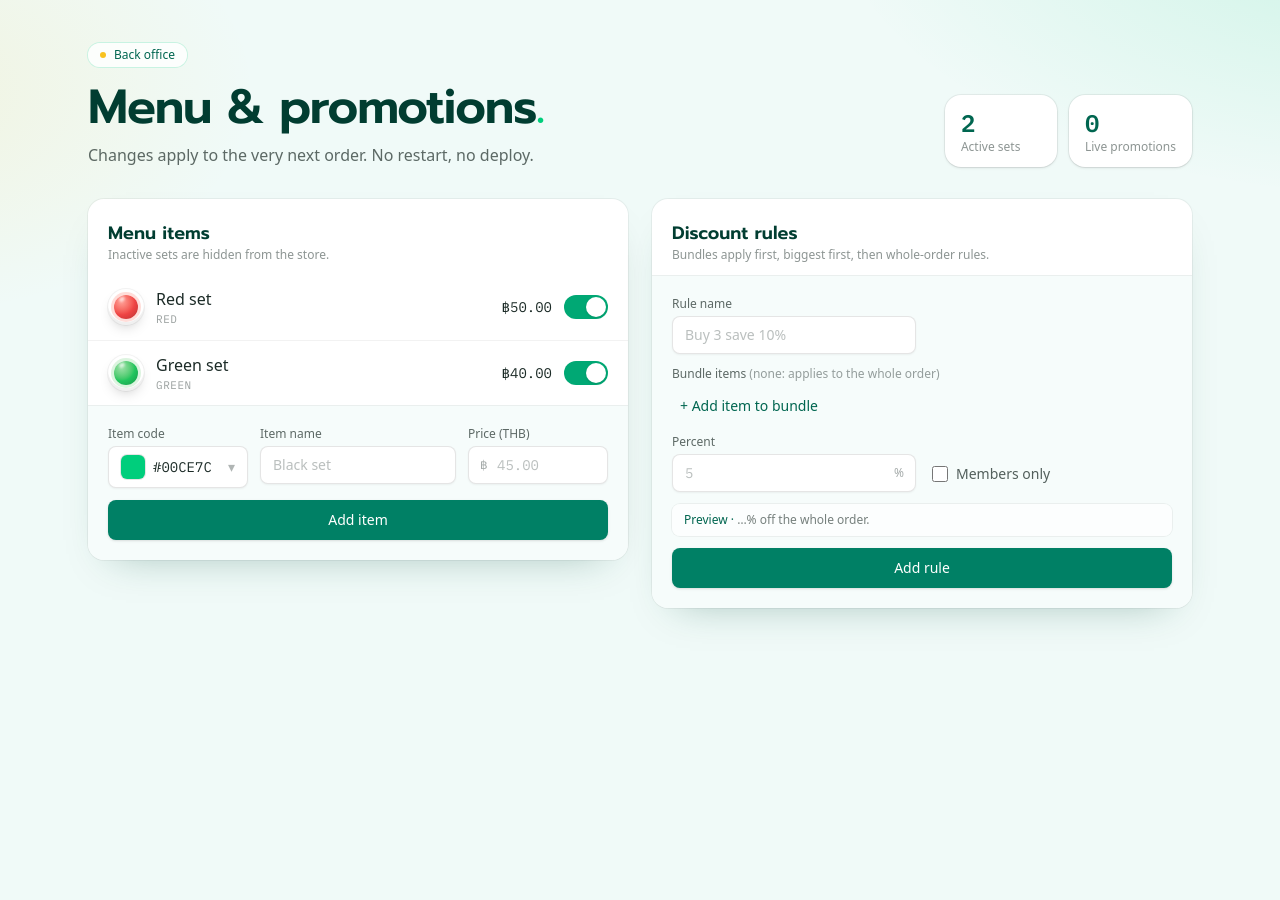
Scenario: Admin › form checks › blocks an empty item form and says what is missing
Expected: the text "RED" is shown, [156, 312, 178, 326]
Click the button "Add item" at (358, 520), box [108, 500, 608, 540]
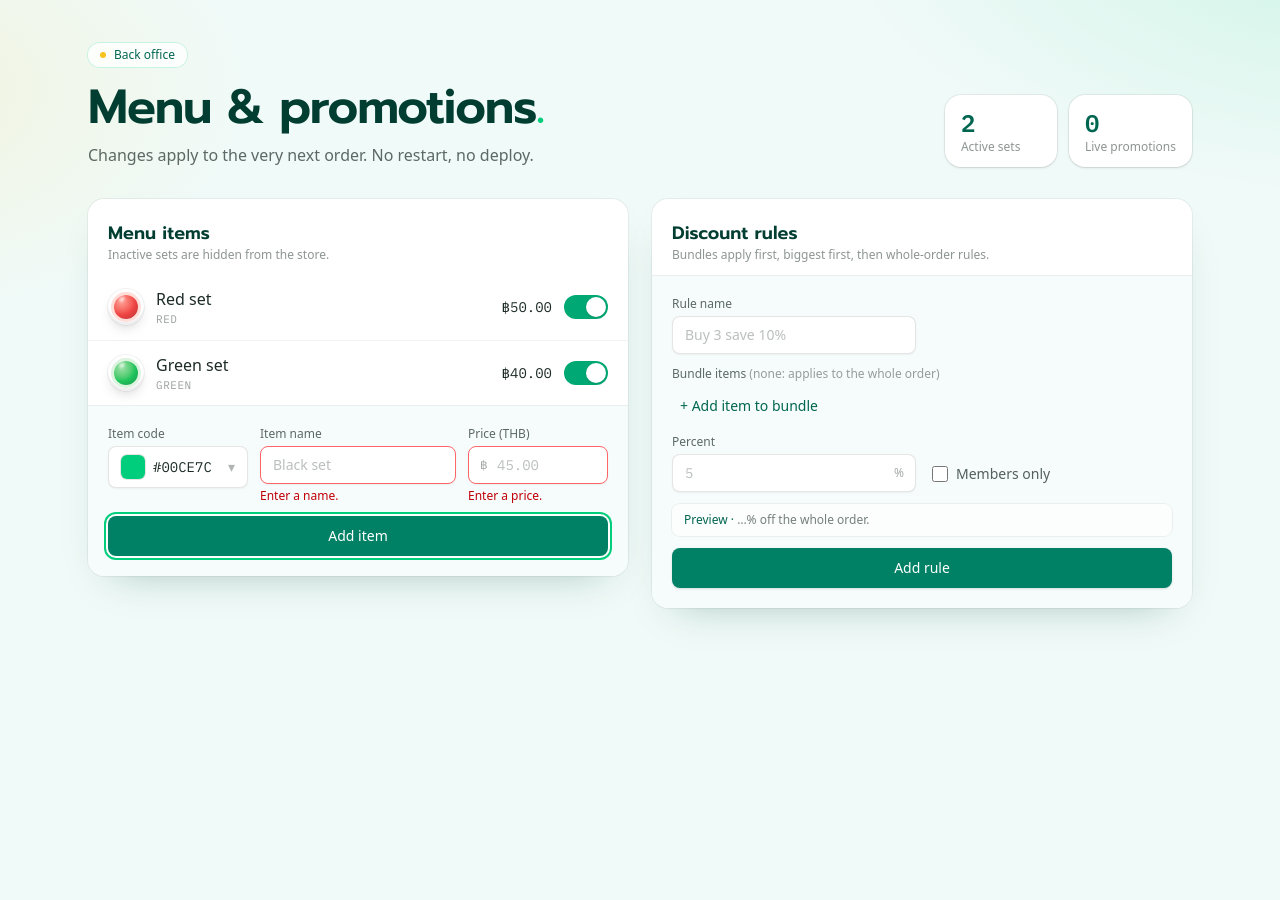
Expected: the text "Enter a name." is shown, [260, 487, 338, 504]
Expected: the text "Enter a price." is shown, [468, 487, 542, 504]
